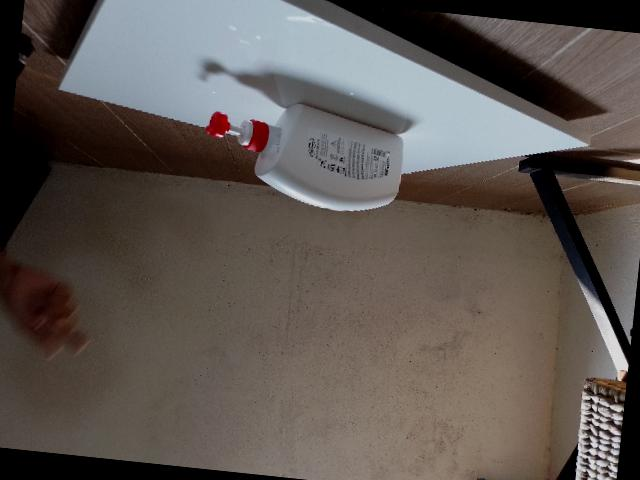life-buoy: (204, 102, 403, 210)
